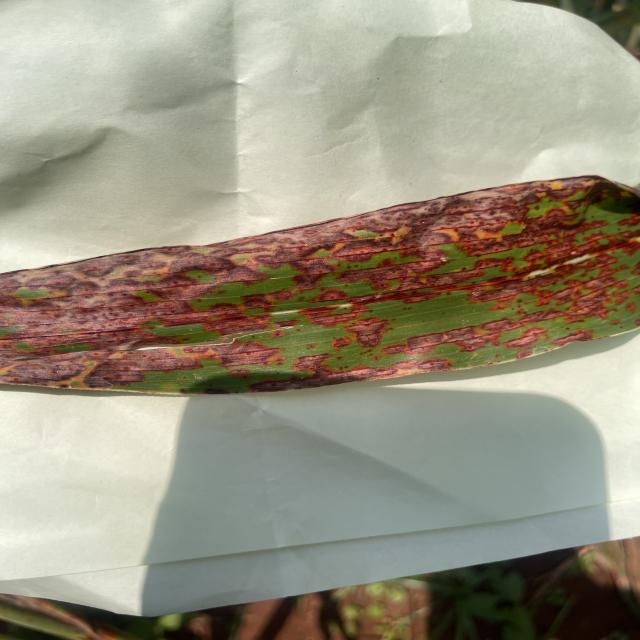millet_rust: (0, 172, 640, 396)
